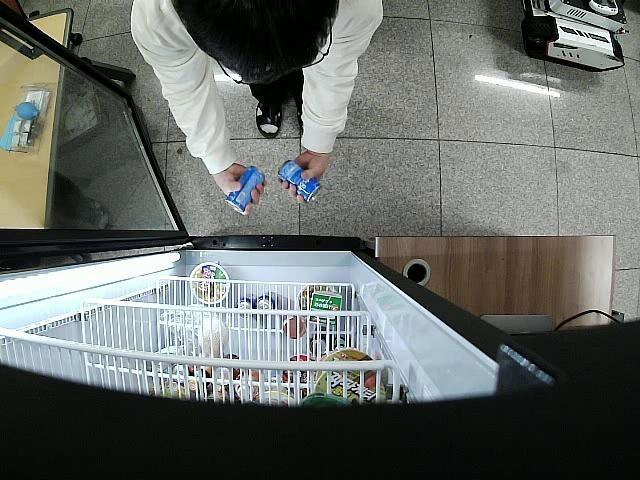15_letsbe: (276, 158, 324, 206), (224, 167, 263, 212)
